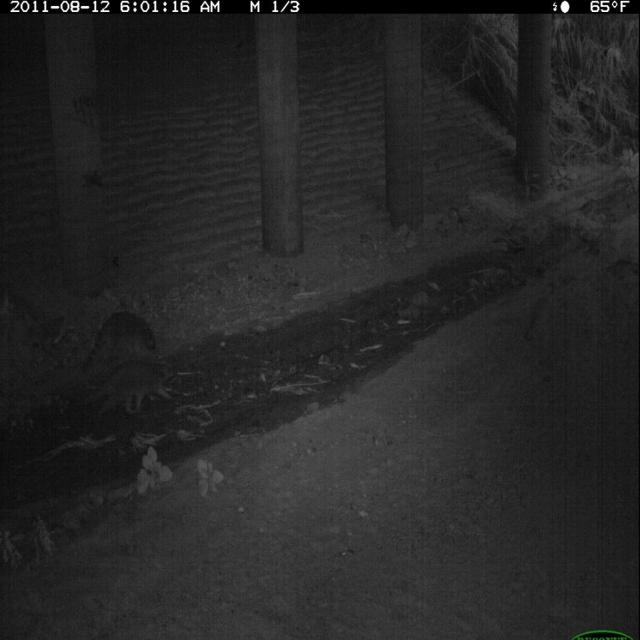raccoon: (80, 357, 181, 423), (78, 305, 160, 377)
